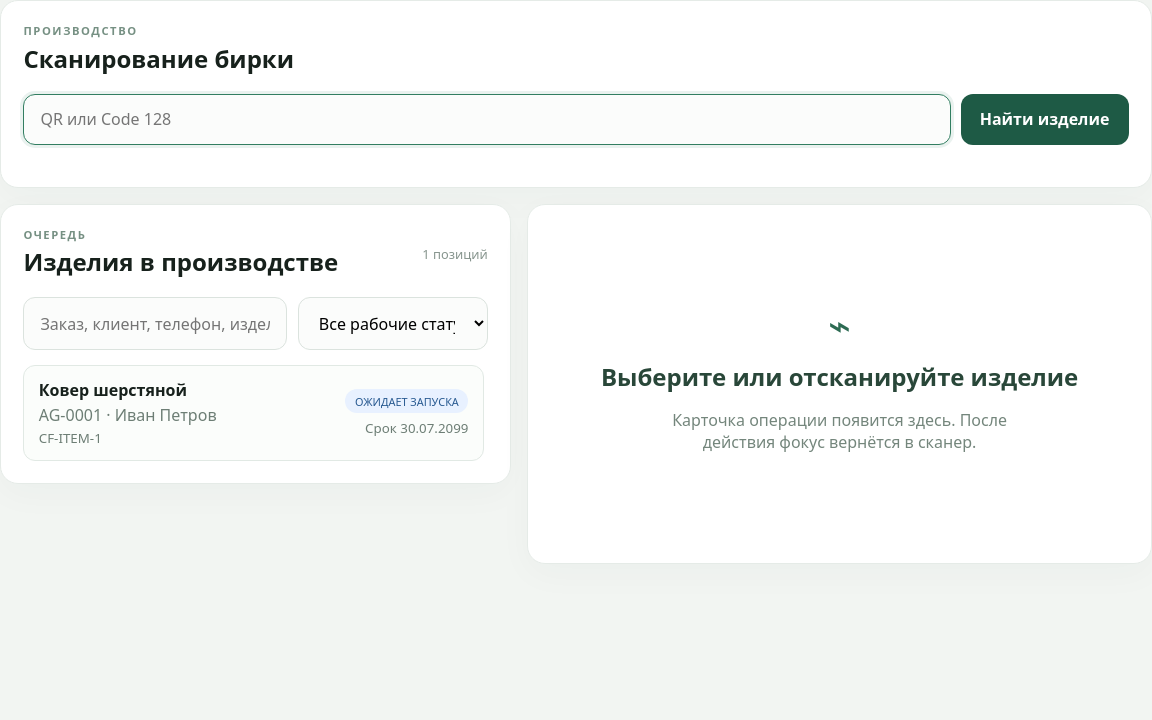
Test: ProductionPage › shows the queue and opens an item without manual scanning
Click the button that starts with "Ковер шерстяной": coordinates (113, 390) [23,365,484,461]
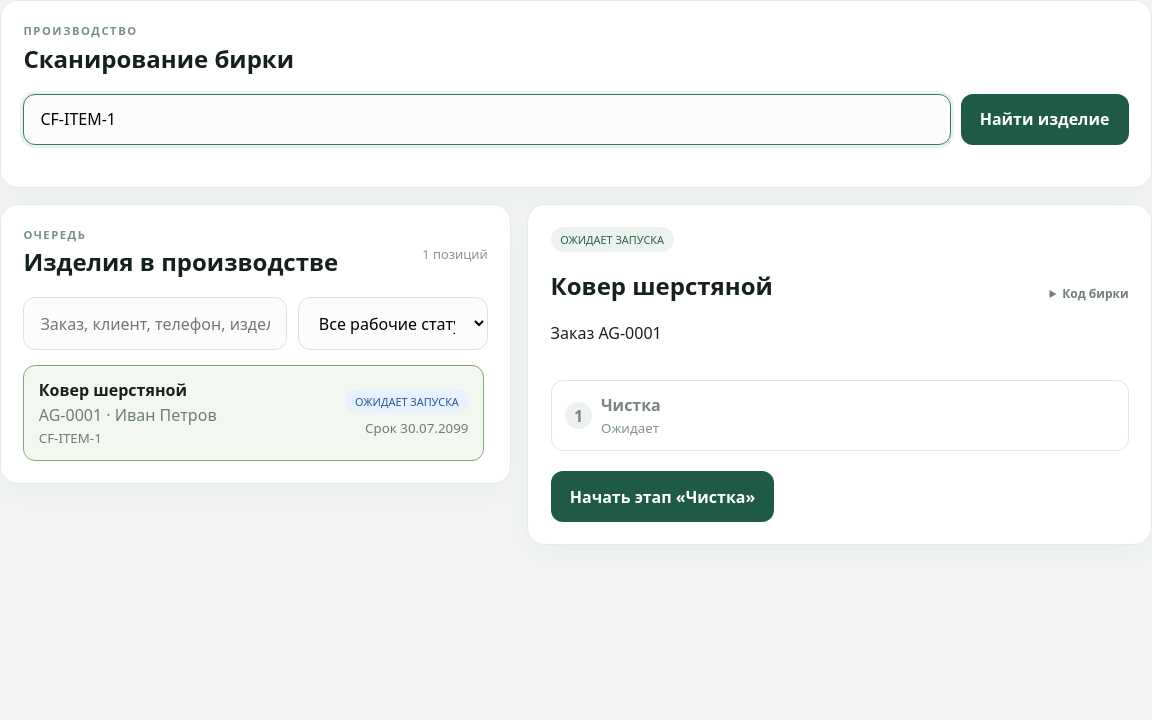
Now the heading "Ковер шерстяной" is shown, box [551,269,773,302]
Now the text "Заказ AG-0001" is shown, box [551,322,662,344]
